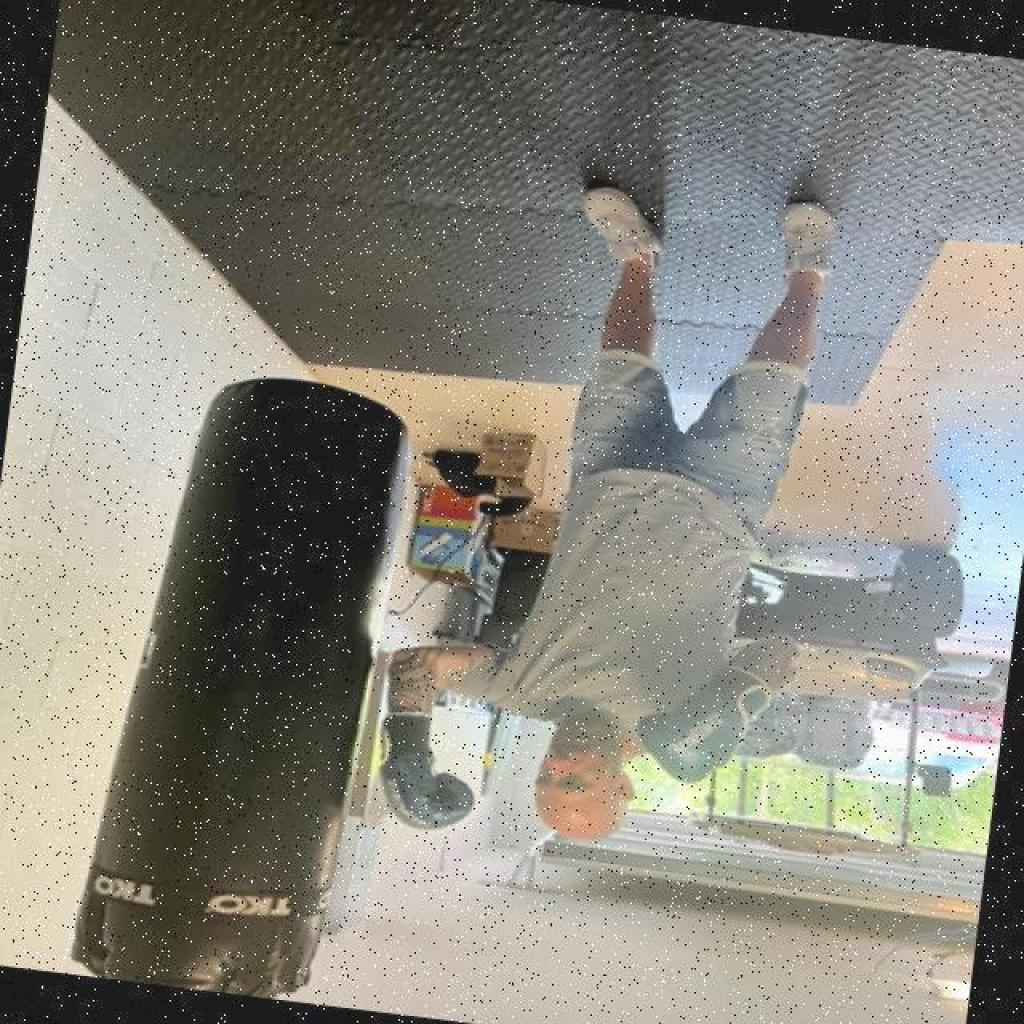uppercut: (318, 597, 808, 894)
